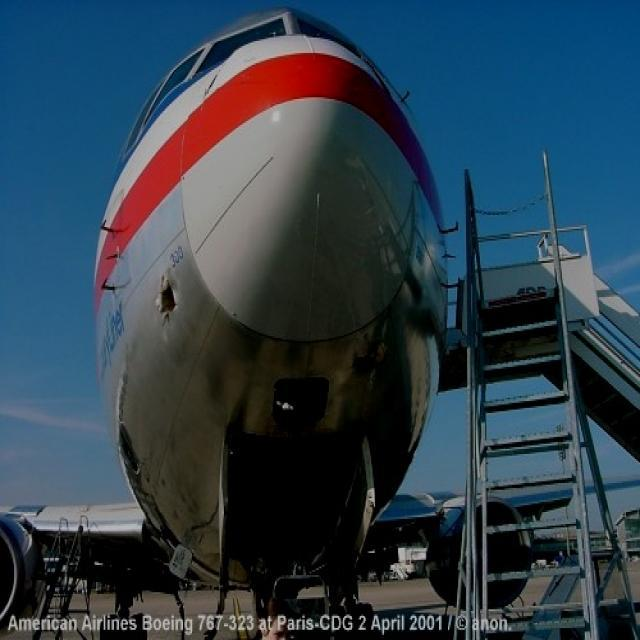dent: (150, 266, 190, 328)
